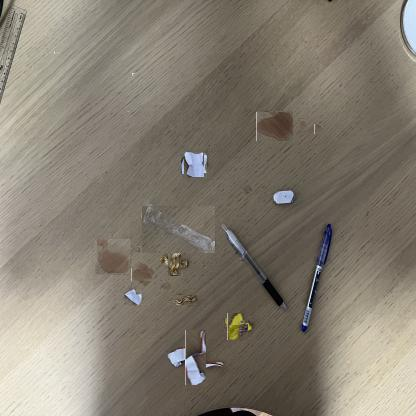dirty: (141, 205, 215, 253), (177, 338, 215, 377), (226, 314, 250, 339), (182, 152, 206, 176), (164, 252, 184, 273), (124, 289, 142, 305), (173, 295, 197, 305)
liquid: (96, 240, 131, 274), (256, 111, 293, 141), (134, 265, 152, 284), (160, 280, 170, 292), (298, 118, 306, 128), (314, 124, 321, 134), (243, 185, 251, 193), (135, 246, 141, 252), (110, 232, 113, 238)
mark: (126, 109, 130, 114), (55, 50, 59, 55), (108, 58, 112, 62), (132, 73, 135, 76), (138, 82, 140, 86)
